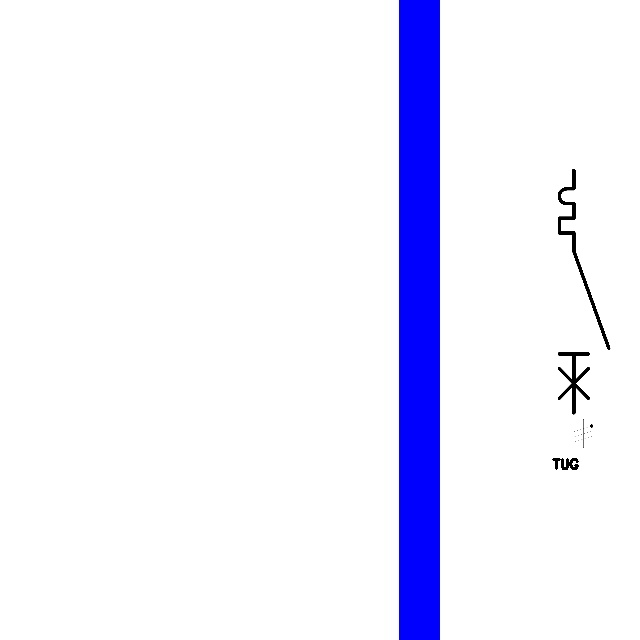interruptor_termomagnetico: (553, 164, 615, 419)
